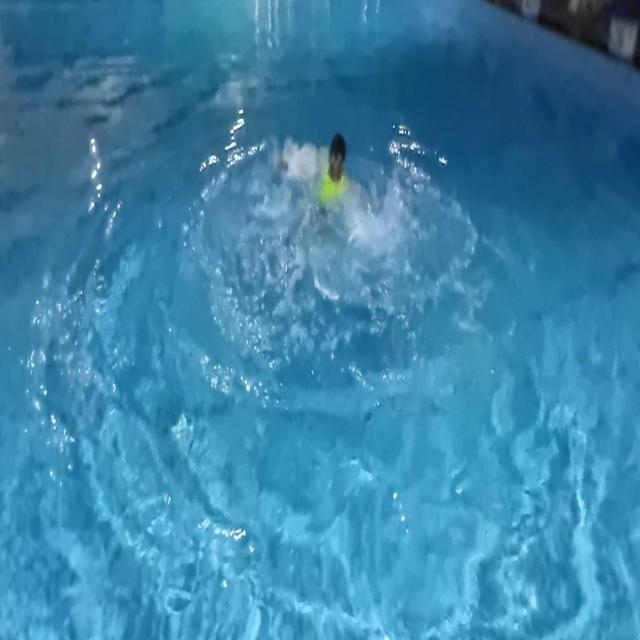Drowning: (266, 110, 424, 334)
